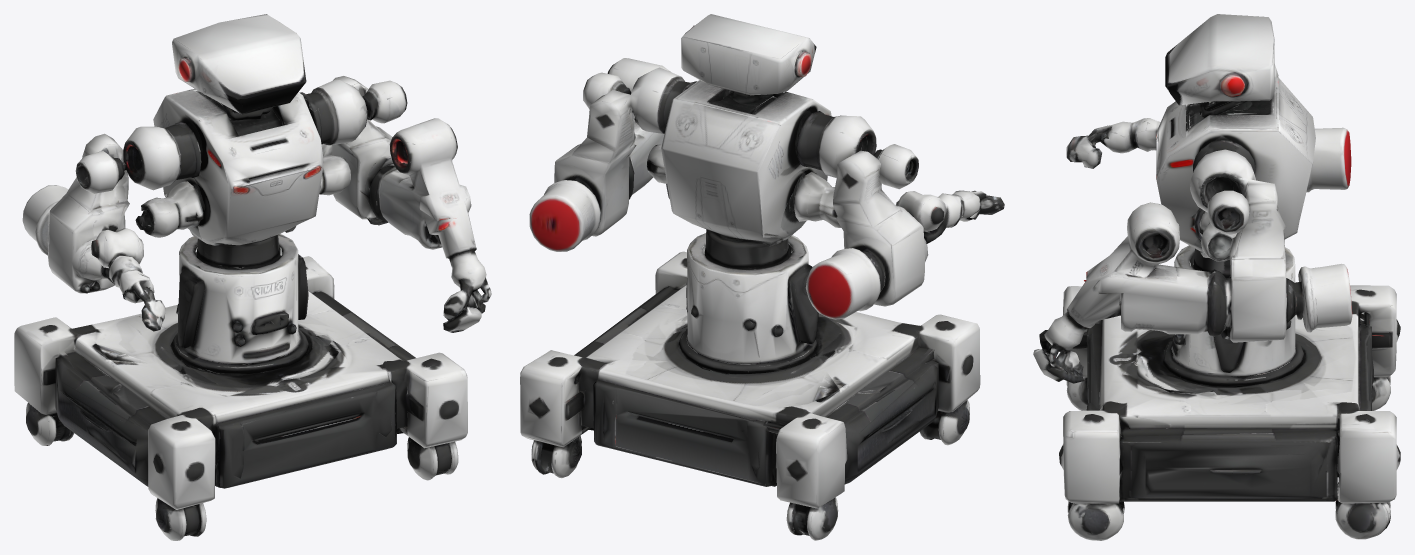
The model's file is Robot.fbx.
The picture shows the model from 3 angles, left to right: view 1: azimuth 30°, elevation 25°; view 2: azimuth 150°, elevation 25°; view 3: azimuth 270°, elevation 25°; orthographic projection. The views are drawn at different scales.
Parts seen in each view (by area): view 1: Mesh_0; view 2: Mesh_0; view 3: Mesh_0.
Part boxes in pixels (x1,y1,x2,y2): Mesh_0: [14, 14, 491, 540]; Mesh_0: [520, 14, 1004, 540]; Mesh_0: [1033, 14, 1400, 540].
Bounding box in the file's own units: 173 × 200 × 154.
1 material, 1 textured.
